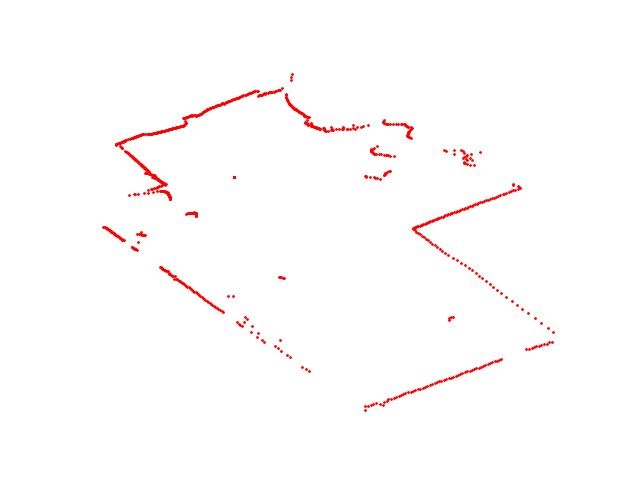person: (362, 144, 398, 183)
